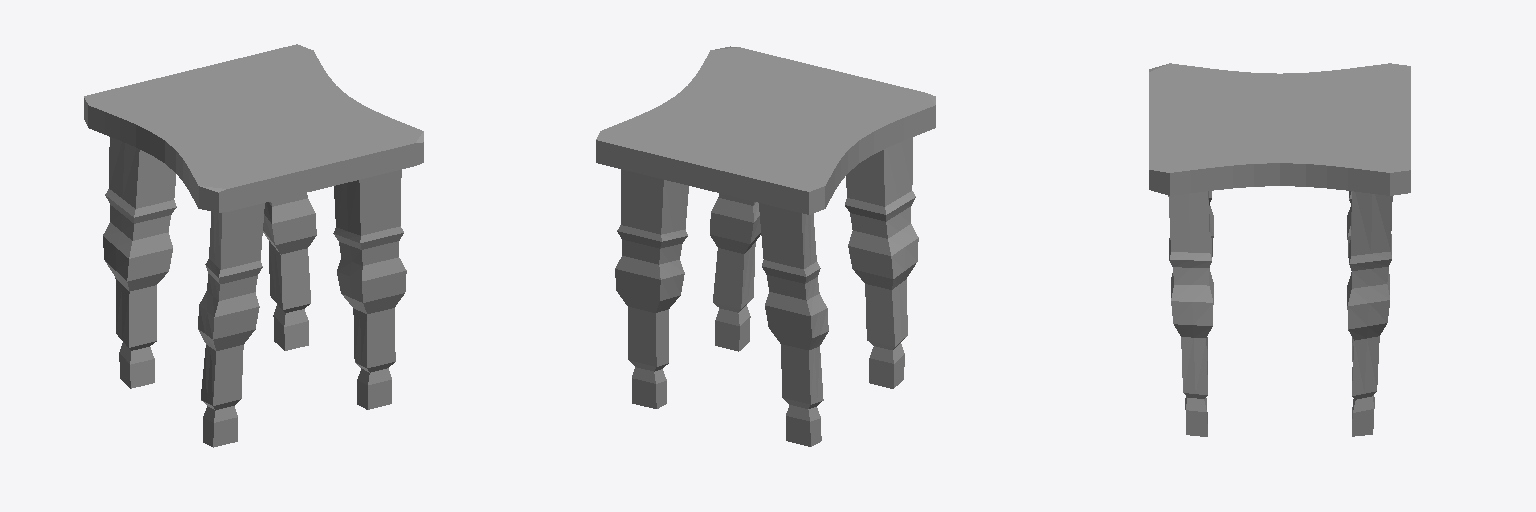
File: table.obj
3 renders of one model, left to right at view 1: azimuth 30°, elevation 25°; view 2: azimuth 150°, elevation 25°; view 3: azimuth 270°, elevation 25°, orthographic.
Parts seen in each view (by area): view 1: Cube.005; view 2: Cube.005; view 3: Cube.005.
Part boxes in pixels (left/top/right/bottom): Cube.005: left=84, top=44, right=423, bottom=447; Cube.005: left=596, top=46, right=935, bottom=446; Cube.005: left=1149, top=63, right=1410, bottom=436.
Size of the model in its own units: 1.37 by 1.61 by 1.38.